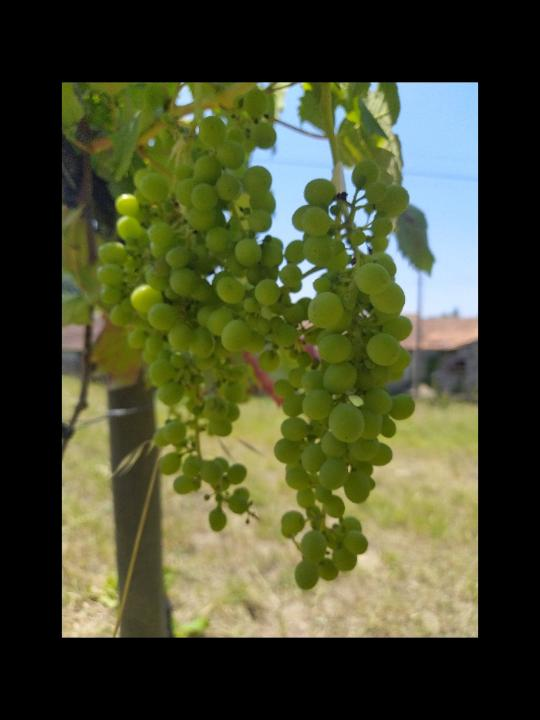grape: (95, 89, 282, 530), (273, 158, 416, 595)
